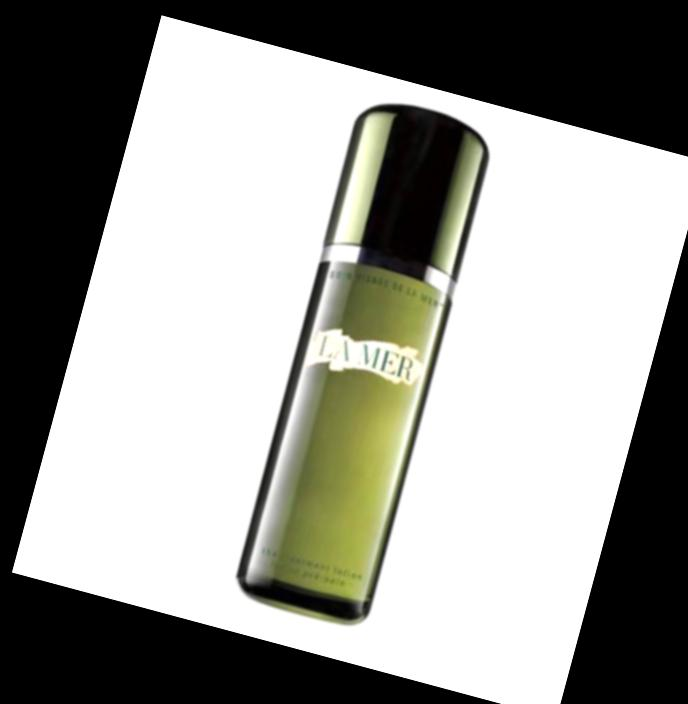cosmetic: (230, 99, 504, 630)
